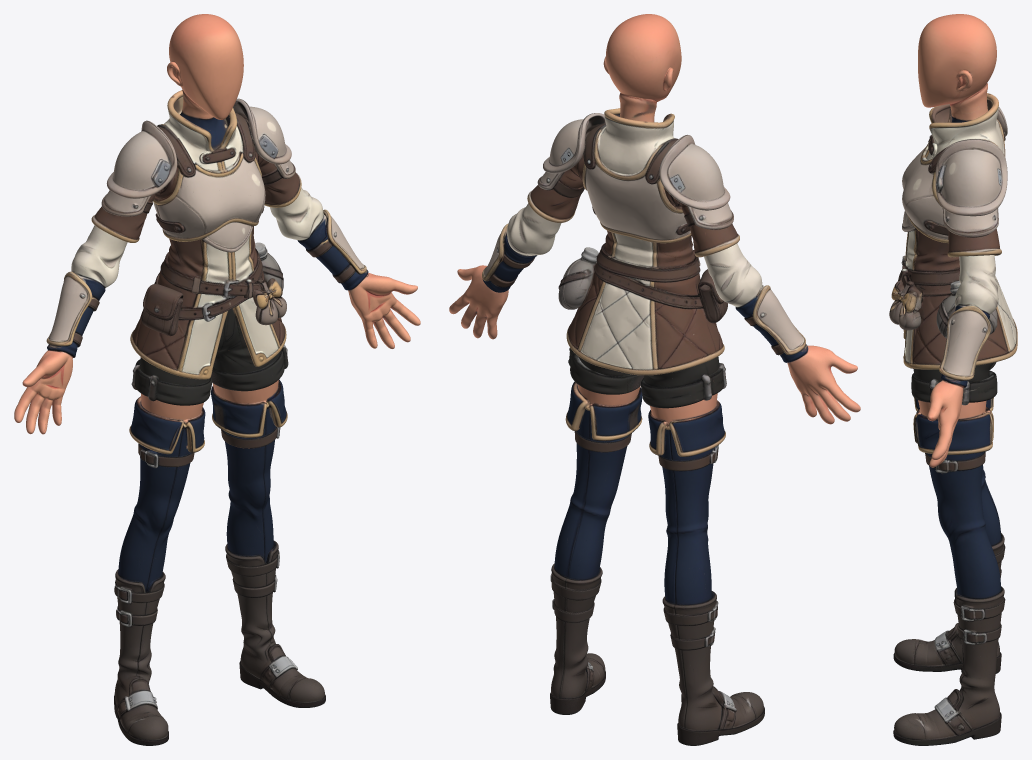
Rendered from femalestarter.glb.
The picture shows the model from 3 angles, left to right: view 1: azimuth 30°, elevation 25°; view 2: azimuth 150°, elevation 25°; view 3: azimuth 270°, elevation 25°; orthographic projection.
Size of the model in its own units: 1.17 by 1.9 by 0.3239.
1 material, 1 textured.
